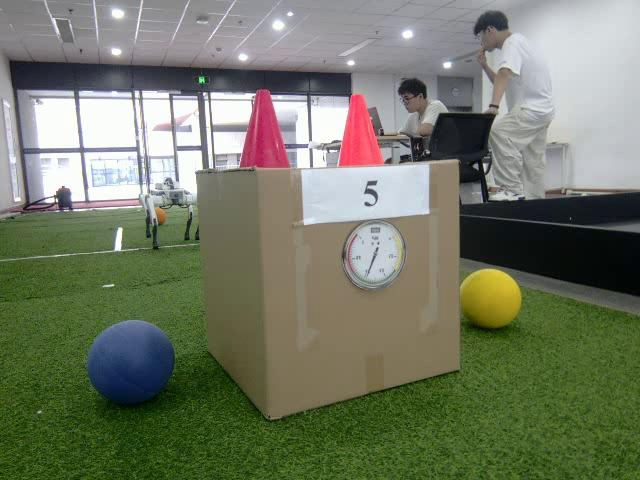Dashboard: (342, 219, 407, 293)
blue_ball: (86, 319, 176, 406)
orange_barrel: (335, 94, 386, 168)
red_barrel: (236, 88, 294, 169)
ssi: (369, 226, 382, 234)
yellow_ball: (460, 266, 523, 332)
